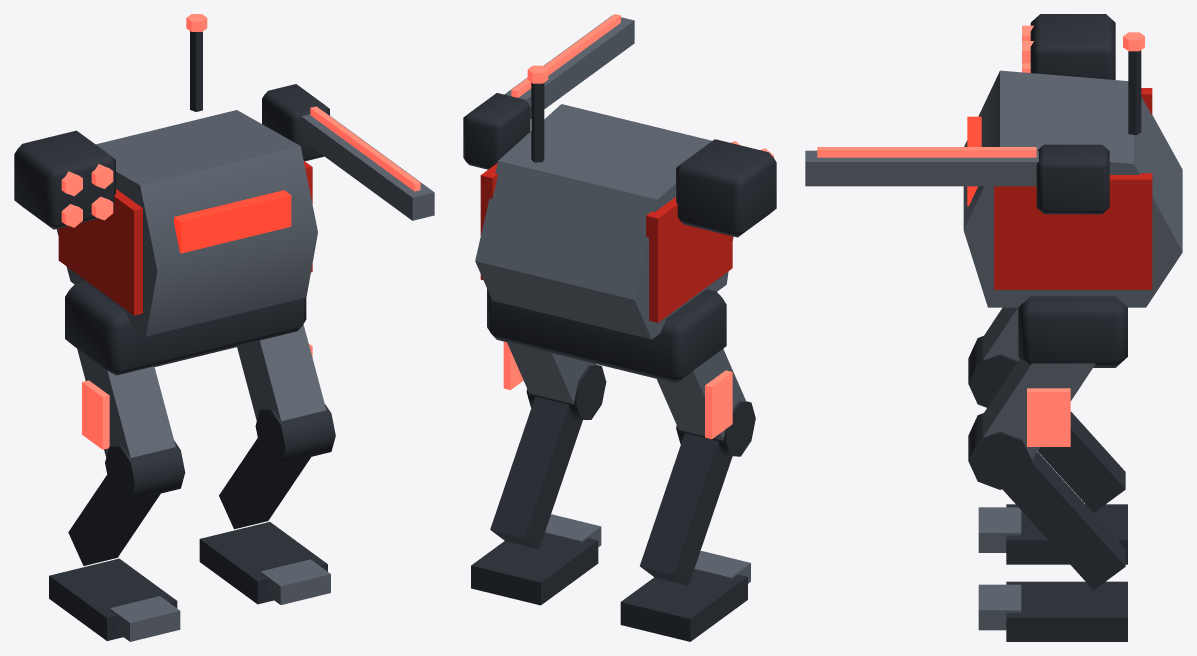
The model's file is mech_red.glb.
The picture shows the model from 3 angles, left to right: view 1: azimuth 30°, elevation 25°; view 2: azimuth 150°, elevation 25°; view 3: azimuth 270°, elevation 25°; orthographic projection. The views are drawn at different scales.
Parts seen in each view (by area): view 1: mech_red; view 2: mech_red; view 3: mech_red.
Boxes of the visible parts, box(x1,y1,x2,y2) form: mech_red: box(14, 14, 434, 641); mech_red: box(463, 14, 776, 641); mech_red: box(805, 14, 1182, 641).
Size of the model in its own units: 0.285 by 0.516 by 0.31.
3 materials, 1 textured.
